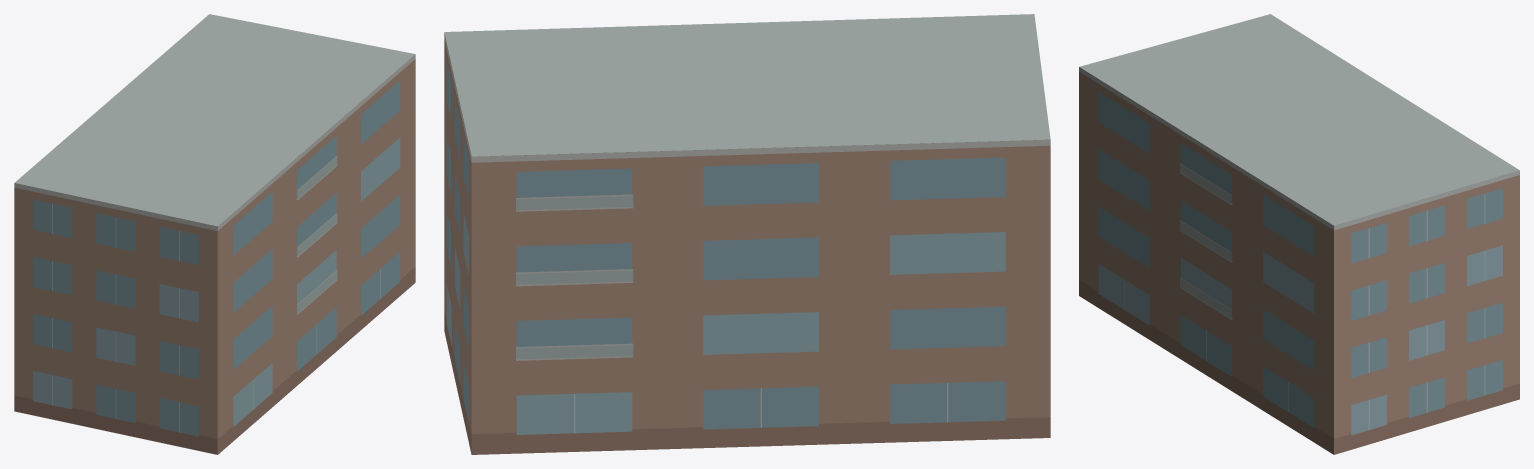
File: survey-upis-32892608.glb
3 renders of one model, left to right at view 1: azimuth 30°, elevation 25°; view 2: azimuth 150°, elevation 25°; view 3: azimuth 270°, elevation 25°, orthographic. The views are drawn at different scales.
Parts seen in each view (by area): view 1: survey-upis-32892608.tmp; view 2: survey-upis-32892608.tmp; view 3: survey-upis-32892608.tmp.
Boxes of the visible parts, x1,y1,x2,y2 form: survey-upis-32892608.tmp: (14,14,415,454); survey-upis-32892608.tmp: (444,14,1050,454); survey-upis-32892608.tmp: (1079,14,1519,454).
Bounding box in the file's own units: 23.6 × 11.9 × 20.76.
